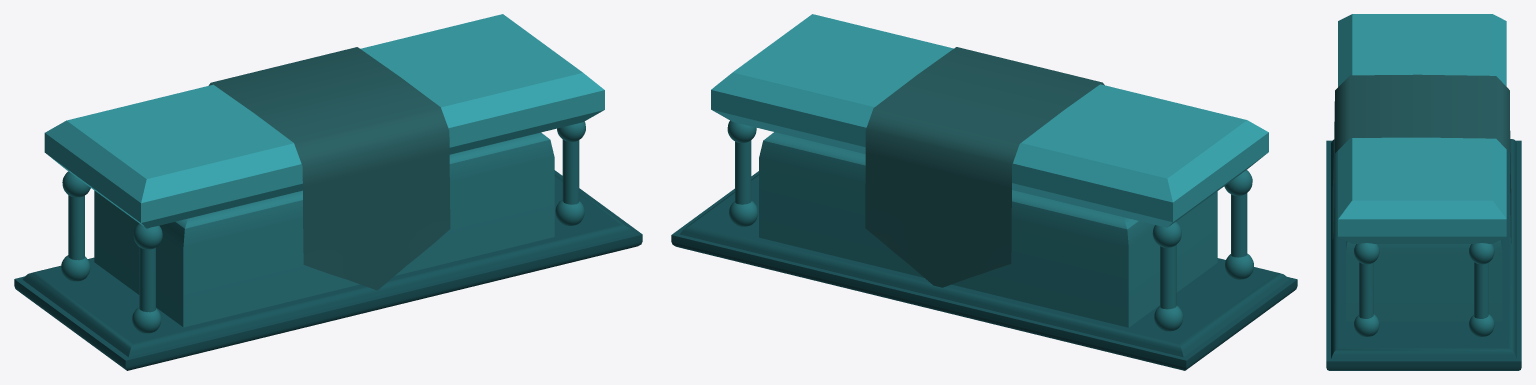
The model's file is AlterUnwrapped.fbx.
3 renders of one model, left to right at view 1: azimuth 30°, elevation 25°; view 2: azimuth 150°, elevation 25°; view 3: azimuth 270°, elevation 25°, orthographic. The views are drawn at different scales.
Parts seen in each view (by area): view 1: polySurface1868, polySurface1872, polySurface1873, polySurface1867, polySurface1869, polySurface1859, polySurface1900, polySurface1902, polySurface1901, polySurface1861, polySurface1903, polySurface1899; view 2: polySurface1868, polySurface1872, polySurface1873, polySurface1867, polySurface1869, polySurface1900, polySurface1897, polySurface1902, polySurface1903, polySurface1899, polySurface1896, polySurface1898; view 3: polySurface1868, polySurface1872, polySurface1867, polySurface1873, polySurface1869, polySurface1859, polySurface1897, polySurface1894, polySurface1895, polySurface1896, polySurface1861.
Boxes of the visible parts, x1,y1,x2,y2 form: polySurface1868: [44, 14, 604, 228]; polySurface1872: [208, 47, 450, 290]; polySurface1873: [94, 132, 554, 327]; polySurface1867: [22, 173, 634, 357]; polySurface1869: [14, 170, 642, 370]; polySurface1859: [562, 140, 579, 204]; polySurface1900: [68, 195, 84, 260]; polySurface1902: [139, 247, 155, 312]; polySurface1901: [133, 223, 162, 249]; polySurface1861: [555, 199, 584, 225]; polySurface1903: [132, 307, 161, 333]; polySurface1899: [61, 255, 90, 281]; polySurface1868: [711, 14, 1268, 227]; polySurface1872: [865, 47, 1104, 287]; polySurface1873: [759, 132, 1217, 327]; polySurface1867: [680, 174, 1288, 357]; polySurface1869: [671, 171, 1297, 370]; polySurface1900: [1160, 245, 1176, 309]; polySurface1897: [735, 140, 751, 204]; polySurface1902: [1231, 193, 1247, 257]; polySurface1903: [1225, 253, 1253, 279]; polySurface1899: [1154, 305, 1183, 331]; polySurface1896: [729, 201, 757, 226]; polySurface1898: [1152, 222, 1181, 247]; polySurface1868: [1338, 14, 1506, 243]; polySurface1872: [1332, 74, 1511, 243]; polySurface1867: [1331, 139, 1516, 358]; polySurface1873: [1346, 239, 1502, 321]; polySurface1869: [1326, 140, 1521, 370]; polySurface1859: [1359, 262, 1373, 318]; polySurface1897: [1474, 262, 1488, 318]; polySurface1894: [1354, 243, 1379, 264]; polySurface1895: [1469, 243, 1494, 264]; polySurface1896: [1469, 314, 1494, 336]; polySurface1861: [1354, 314, 1379, 336].
Bounding box in the file's own units: 3.52 × 1.15 × 1.32.
